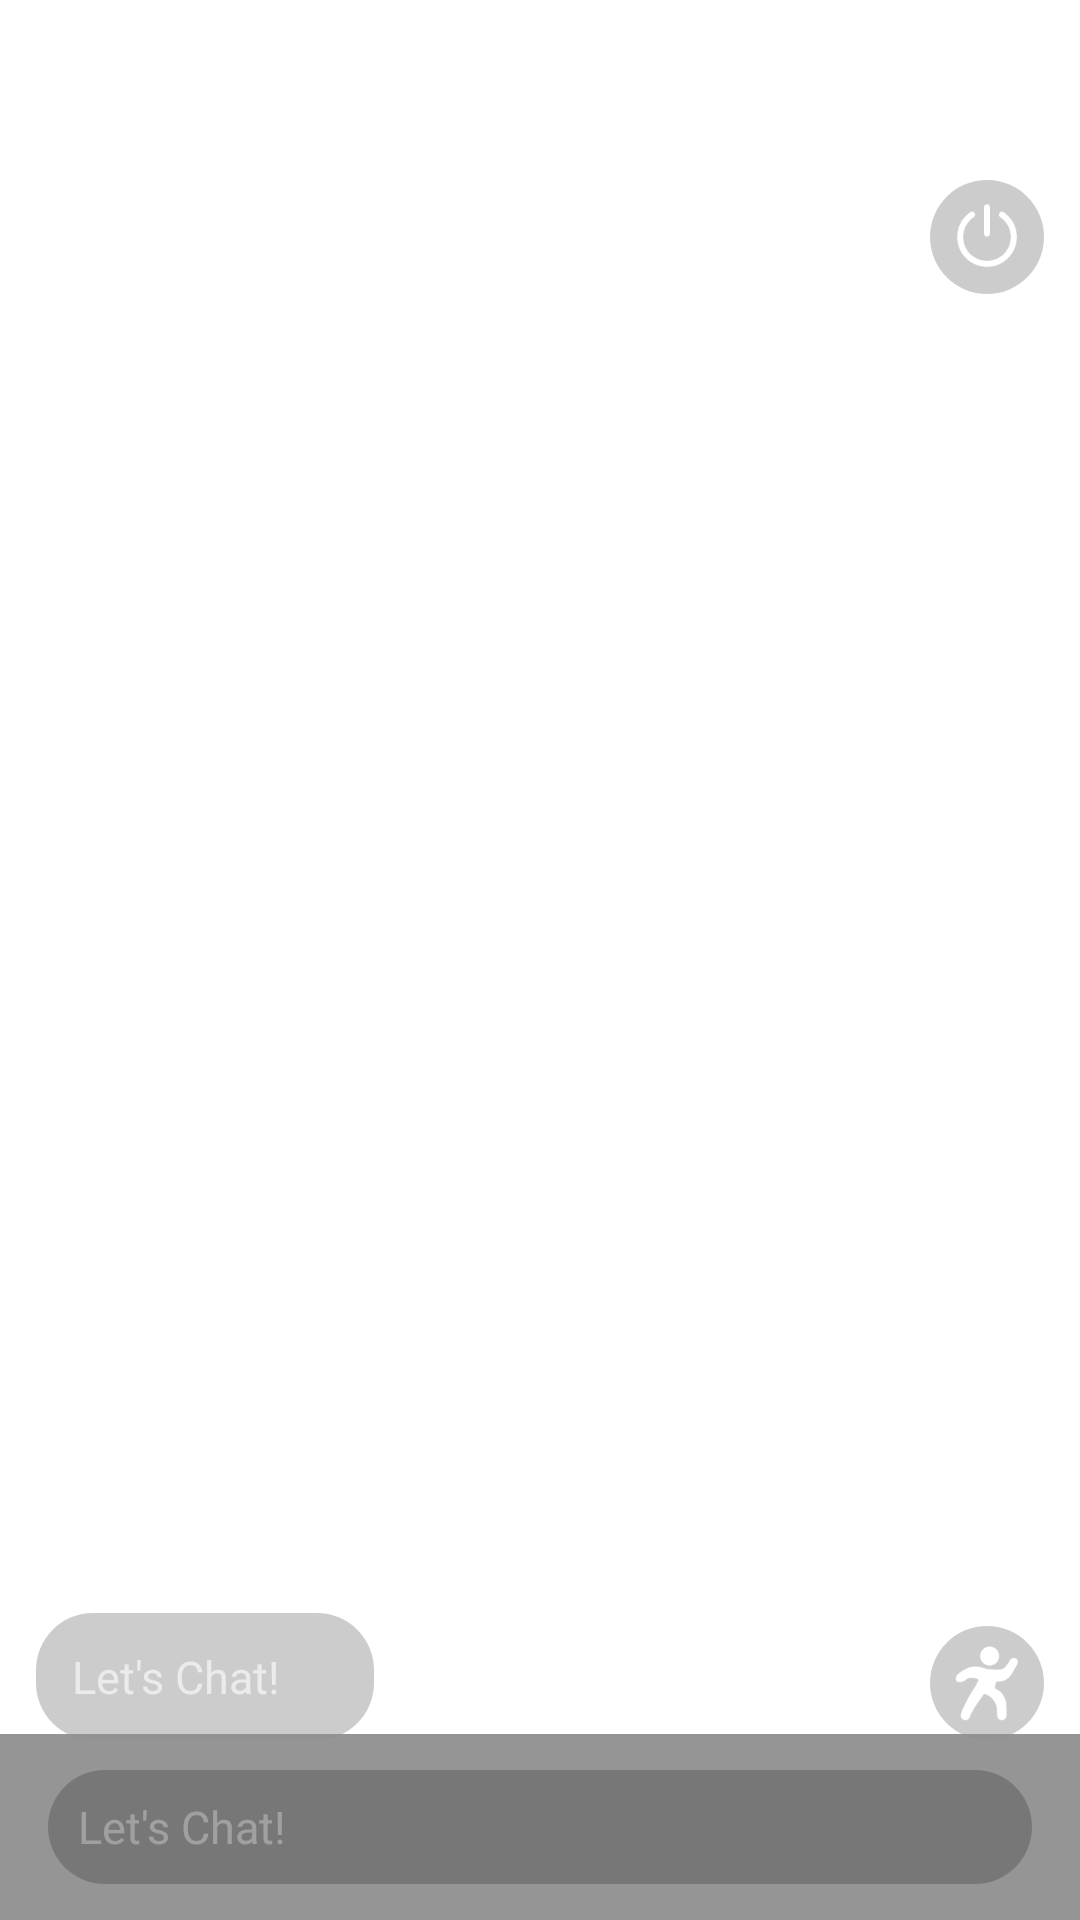

Screen size 1080×1920. Icon name, then its center in pixels as point (x, y):
action: point (987, 1683)
exit: point (987, 237)
